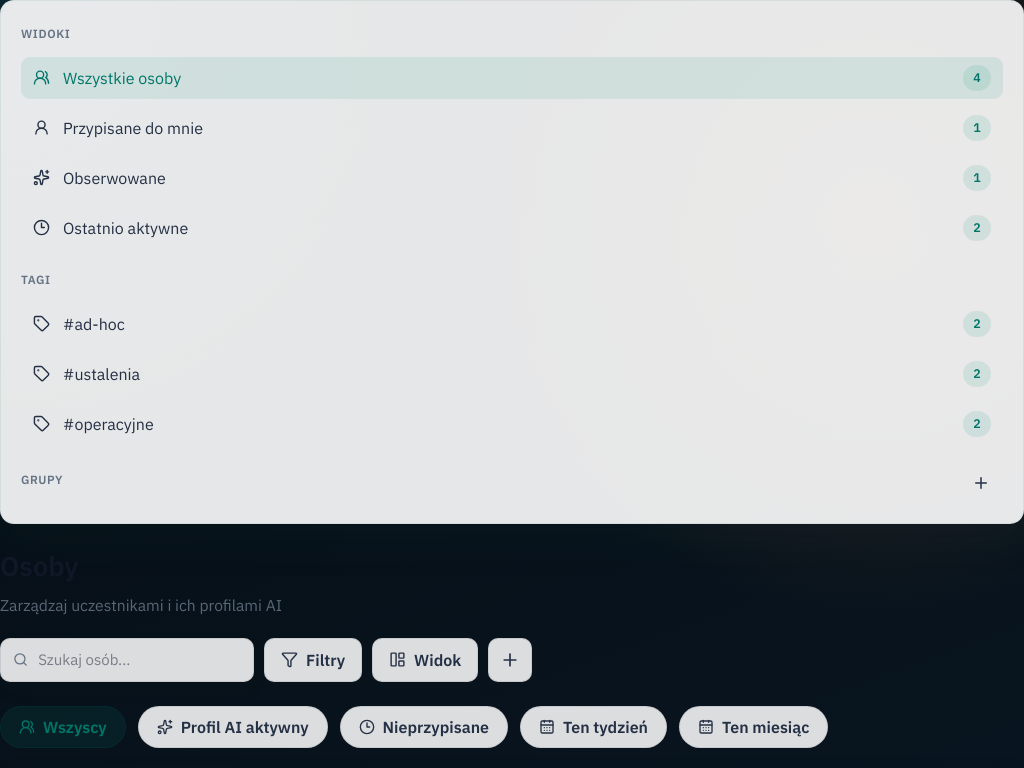
Test: PeopleTab directory view › shows empty state when filters return no people
Type "brak wyniku" into the search field labelled "Szukaj osób..." at (140, 660), box [38, 649, 241, 671]
(page scrolled)
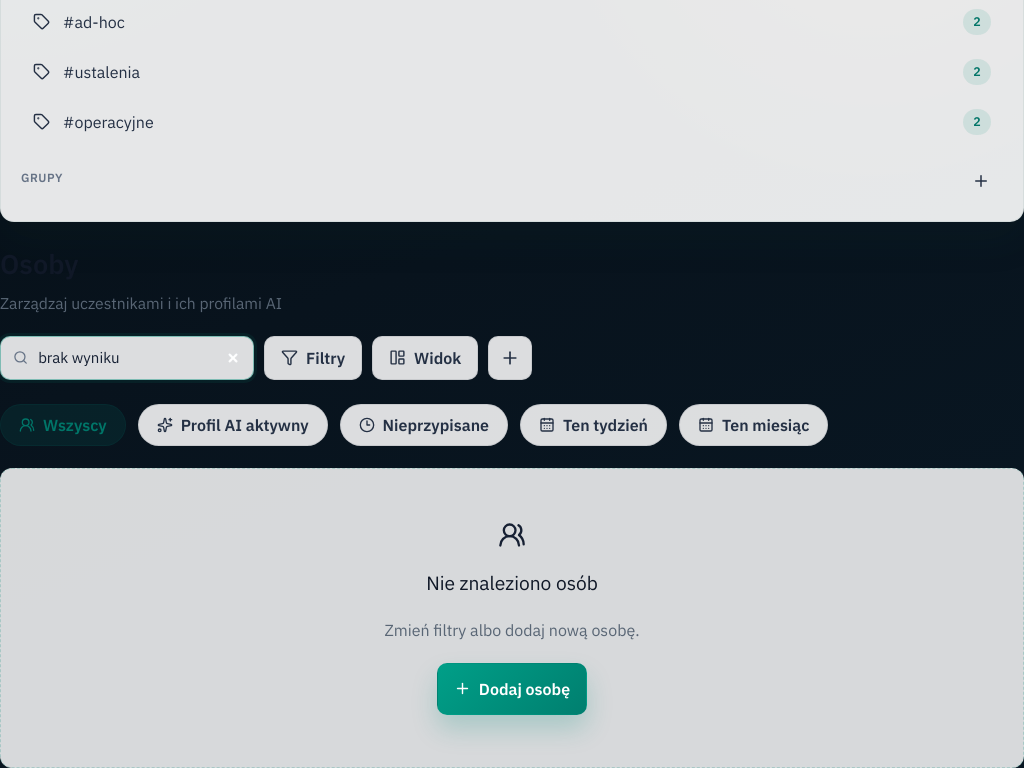
Now the heading "Nie znaleziono osób" is shown, box [426, 569, 598, 606]
Now the text "Zmień filtry albo dodaj nową osobę." is shown, box [384, 618, 640, 651]
